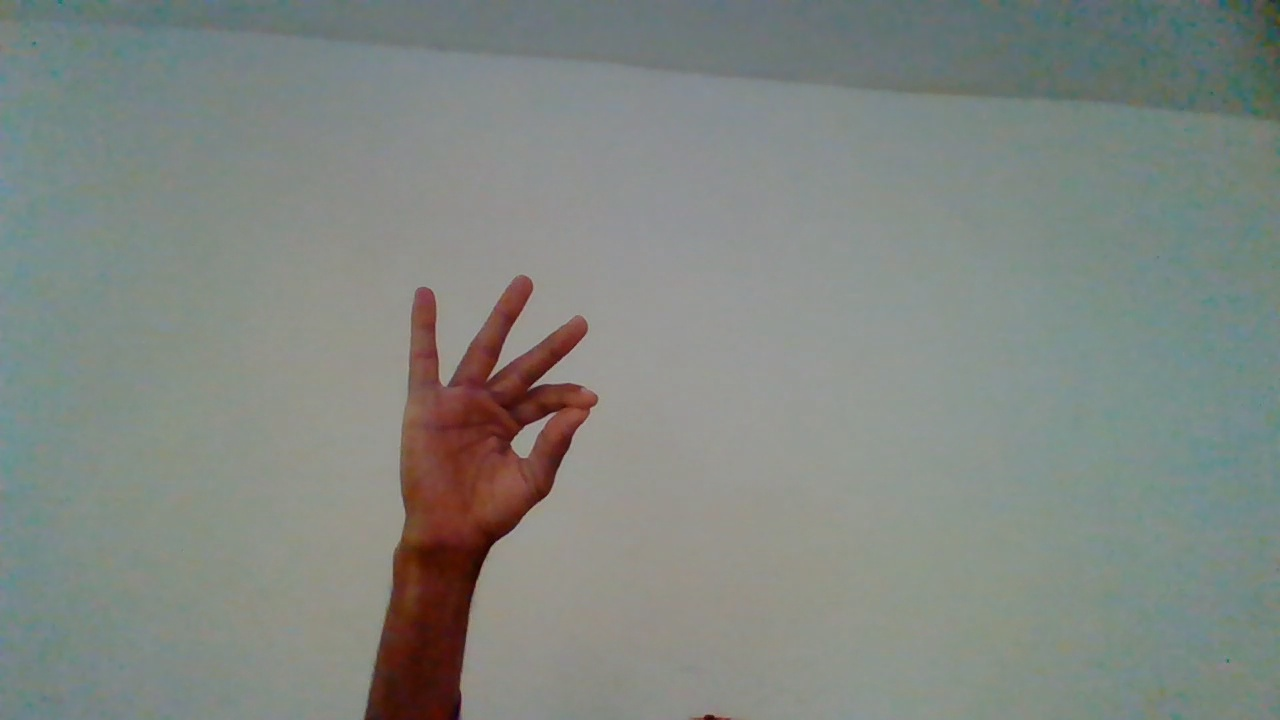le: (396, 272, 600, 636)
